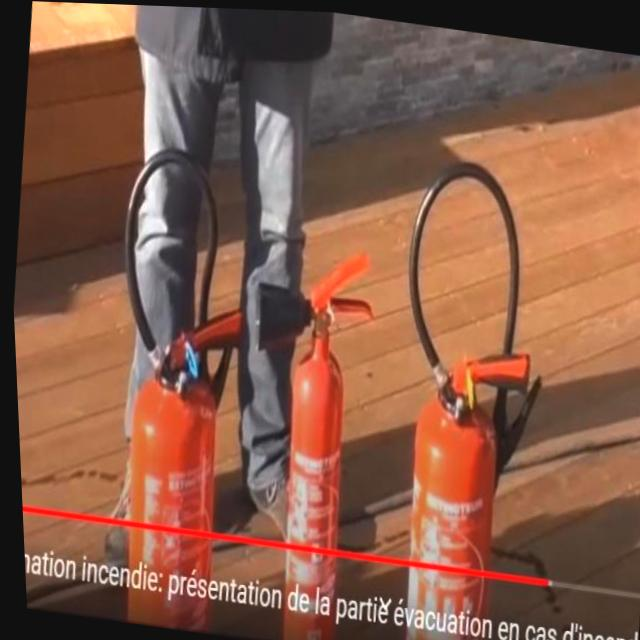FireExtinguisher: (356, 142, 572, 640), (72, 129, 271, 635), (208, 232, 392, 640)
